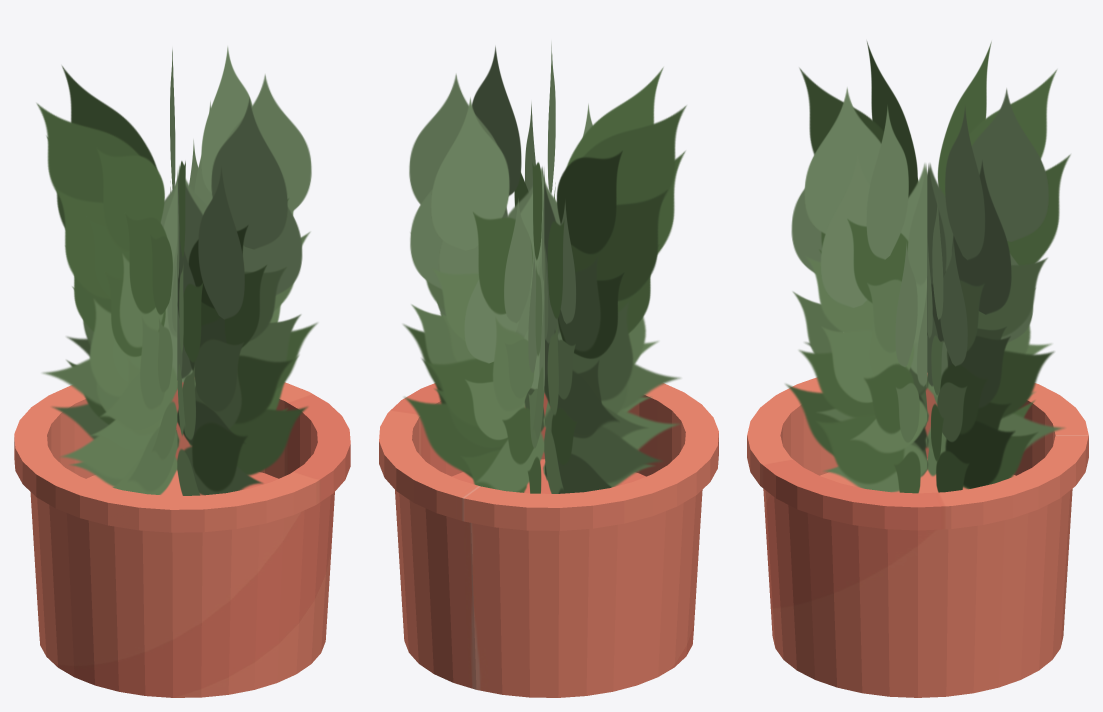
File: pot-fleurs.gltf
3 views of the same model, side by side, from view 1: azimuth 30°, elevation 25°; view 2: azimuth 150°, elevation 25°; view 3: azimuth 270°, elevation 25° (orthographic).
Visible parts, largest first — view 1: Cylinder, Plane, Plane.001; view 2: Cylinder, Plane, Plane.001; view 3: Plane, Cylinder, Plane.001.
Part boxes in pixels (x1,y1,x2,y2): Cylinder: [14, 382, 350, 697]; Plane: [36, 47, 317, 492]; Plane.001: [66, 140, 288, 495]; Cylinder: [379, 383, 718, 697]; Plane: [403, 43, 686, 493]; Plane.001: [434, 172, 659, 493]; Plane: [785, 41, 1070, 488]; Cylinder: [747, 373, 1088, 697]; Plane.001: [817, 177, 1037, 493].
Size of the model in its own units: 2.35 by 4.3 by 2.35.
Materials: 2 (2 with a texture image).
